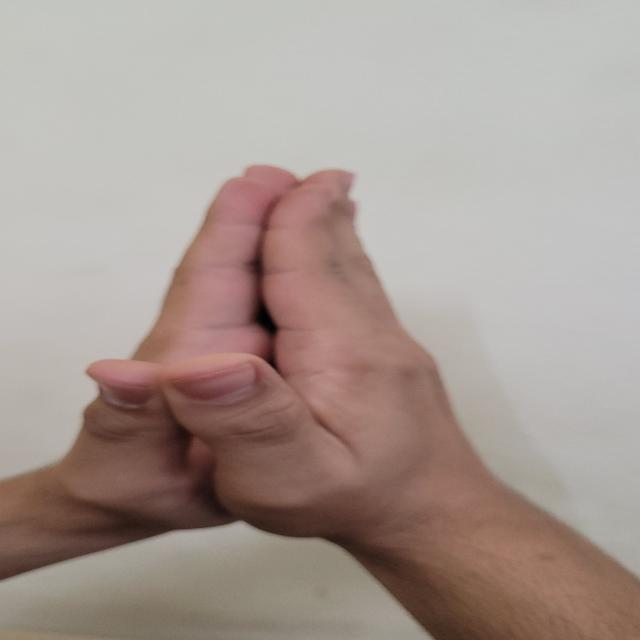Thank You: (1, 108, 491, 594)
